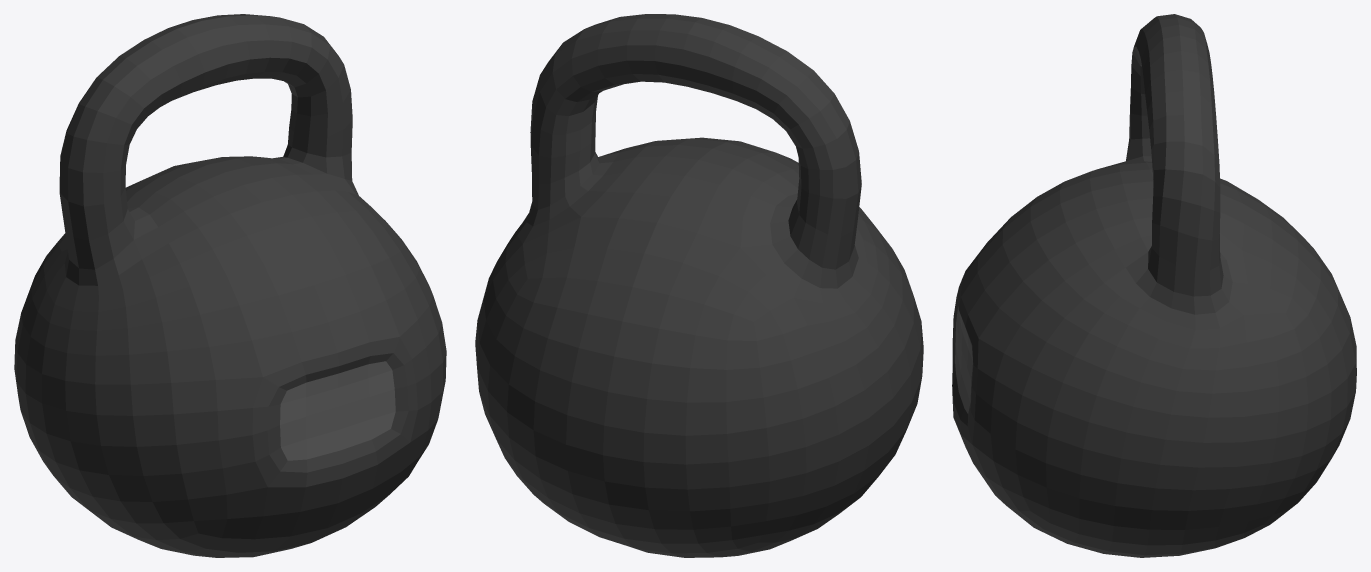
The model's file is Weight.fbx.
The picture shows the model from 3 angles, left to right: view 1: azimuth 30°, elevation 25°; view 2: azimuth 150°, elevation 25°; view 3: azimuth 270°, elevation 25°; orthographic projection. The views are drawn at different scales.
Visible parts, largest first — view 1: Weight; view 2: Weight; view 3: Weight.
Part boxes in pixels (x1,y1,x2,y2): Weight: [14, 14, 446, 557]; Weight: [475, 14, 923, 557]; Weight: [952, 14, 1356, 557].
Bounding box in the file's own units: 36.19 × 34.73 × 46.78.
